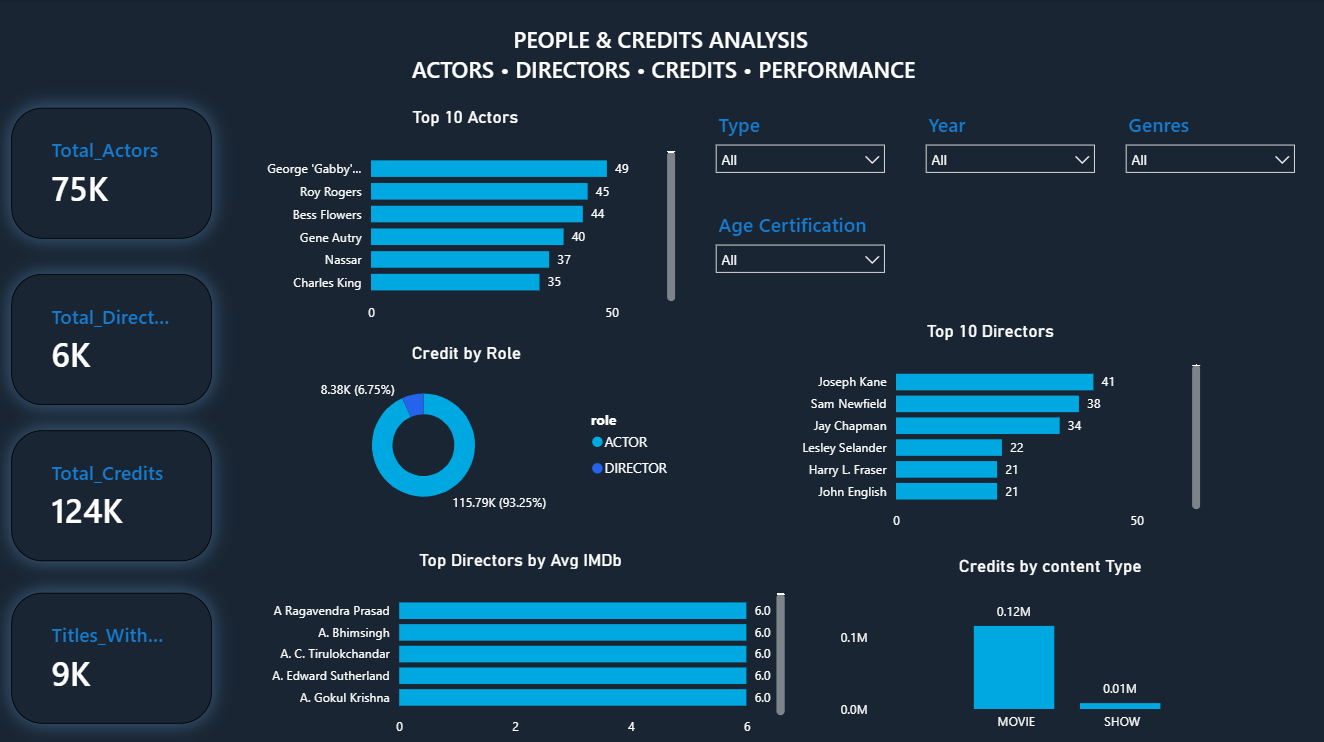

This screenshot's page, from the dashboard's own definition file:
{"tool":"powerbi","page":{"name":"Page 3","canvas":[1280,720],"ordinal":2},"visuals":[{"type":"textbox","box":[22,19.2,1237.7,74.1],"z":0},{"type":"cardVisual","fields":{"Data":["titles.Total_Actors"]},"box":[11,104.8,193.5,126.2],"z":1000},{"type":"cardVisual","fields":{"Data":["titles.Total_Directors"]},"box":[11,265.4,193.5,126.2],"z":2000},{"type":"cardVisual","fields":{"Data":["titles.Total_Credits"]},"box":[11,416.3,193.5,126.2],"z":3000},{"type":"cardVisual","fields":{"Data":["titles.Titles_With_Credits"]},"box":[11,572.8,193.5,126.2],"z":4000},{"type":"barChart","title":"Top 10 Actors","fields":{"Y":["CountNonNull(credits.id)"],"Category":["credits.Actor"]},"box":[241.5,104.3,415.8,216.8],"z":5000},{"type":"barChart","title":"Top 10 Directors","fields":{"Category":["credits.Directors"],"Y":["CountNonNull(credits.id)"]},"box":[747.9,310.1,415.8,211.3],"z":6000},{"type":"donutChart","title":"Credit by Role","fields":{"Category":["credits.role"],"Y":["CountNonNull(credits.id)"]},"box":[242.9,332.1,415.8,167.4],"z":7000},{"type":"clusteredBarChart","title":"Top Directors by Avg IMDb","fields":{"Category":["credits.Directors"],"Y":["titles.Avg_IMDb_score"]},"box":[242.9,531,520.1,189.4],"z":8000},{"type":"columnChart","title":"Credits by content Type","fields":{"Category":["titles.type"],"Y":["CountNonNull(credits.role)"]},"box":[805.5,536.5,415.8,178.4],"z":9000},{"type":"slicer","fields":{"Values":["titles.type"]},"box":[680.6,104.3,183.9,83.7],"z":10000},{"type":"slicer","fields":{"Values":["titles.genres"]},"box":[1075.8,104.3,183.9,83.7],"z":11000},{"type":"slicer","fields":{"Values":["titles.age_certification"]},"box":[680.6,200.3,183.9,78.2],"z":12000},{"type":"slicer","fields":{"Values":["titles.release_year"]},"box":[883.7,104.3,183.9,83.7],"z":13000}]}

Visuals, with their boxes in screenshot pixels (x1, y1, x2, y2), scaled from the page's 1280x720 canvas onto the 1324x742 screenshot:
textbox: 23/20/1303/96
cardVisual - titles.Total_Actors: 11/108/212/238
cardVisual - titles.Total_Directors: 11/274/212/404
cardVisual - titles.Total_Credits: 11/429/212/559
cardVisual - titles.Titles_With_Credits: 11/590/212/720
"Top 10 Actors" barChart: 250/107/680/331
"Top 10 Directors" barChart: 774/320/1204/537
"Credit by Role" donutChart: 251/342/681/515
"Top Directors by Avg IMDb" clusteredBarChart: 251/547/789/741
"Credits by content Type" columnChart: 833/553/1263/737
slicer - titles.type: 704/107/894/194
slicer - titles.genres: 1113/107/1303/194
slicer - titles.age_certification: 704/206/894/287
slicer - titles.release_year: 914/107/1104/194
